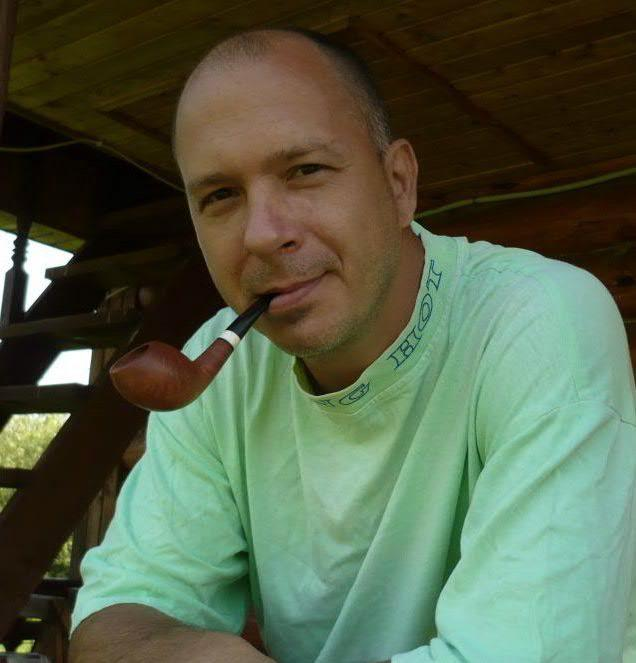trubka: (109, 294, 276, 411)
